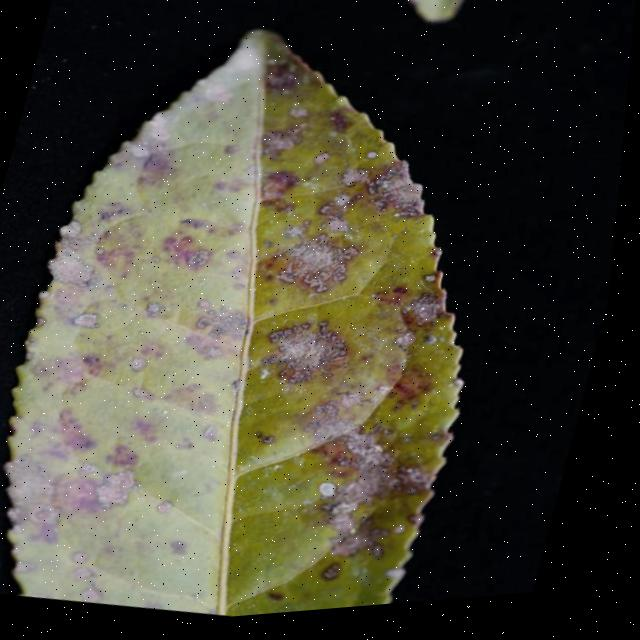Tea red rust: (0, 66, 538, 638)
